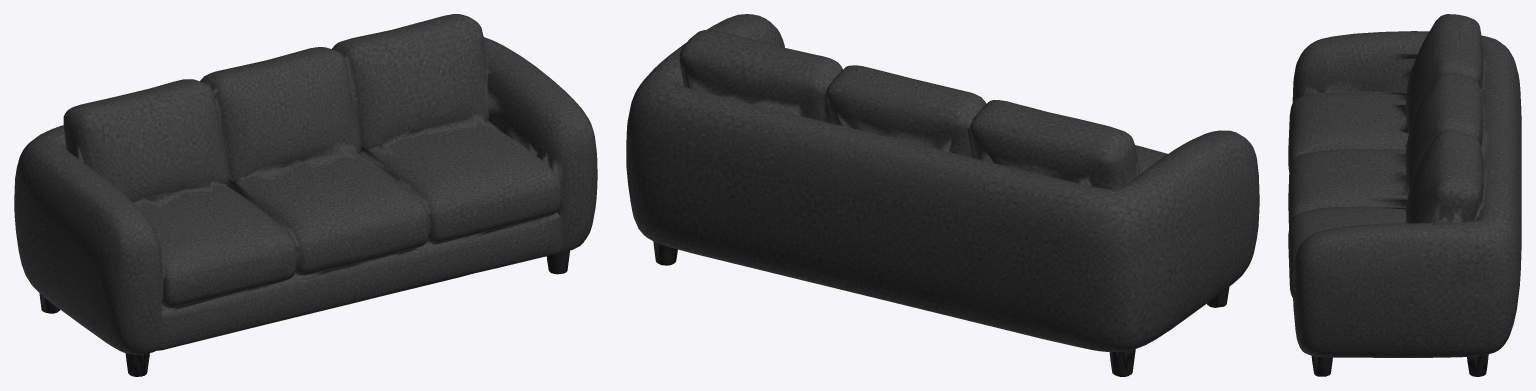
File: sofa.lod1.glb
3 renders of one model, left to right at view 1: azimuth 30°, elevation 25°; view 2: azimuth 150°, elevation 25°; view 3: azimuth 270°, elevation 25°, orthographic. The views are drawn at different scales.
Visible parts, largest first — view 1: tripo_node_4098a23a-3137-4a23-b1d9-4338fed7cc7a; view 2: tripo_node_4098a23a-3137-4a23-b1d9-4338fed7cc7a; view 3: tripo_node_4098a23a-3137-4a23-b1d9-4338fed7cc7a.
Part boxes in pixels (x1,y1,x2,y2): tripo_node_4098a23a-3137-4a23-b1d9-4338fed7cc7a: [14, 14, 597, 376]; tripo_node_4098a23a-3137-4a23-b1d9-4338fed7cc7a: [626, 14, 1259, 376]; tripo_node_4098a23a-3137-4a23-b1d9-4338fed7cc7a: [1288, 14, 1521, 376].
Size of the model in its own units: 1.8 by 0.72 by 0.8218.
1 material, 1 textured.
